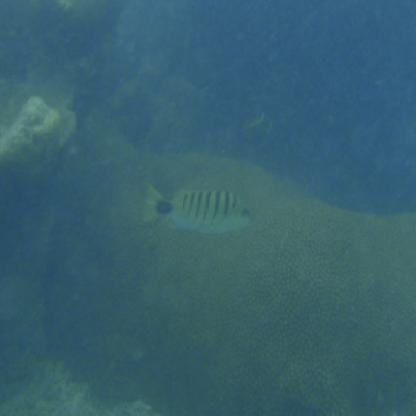snapper: (139, 176, 259, 240)
